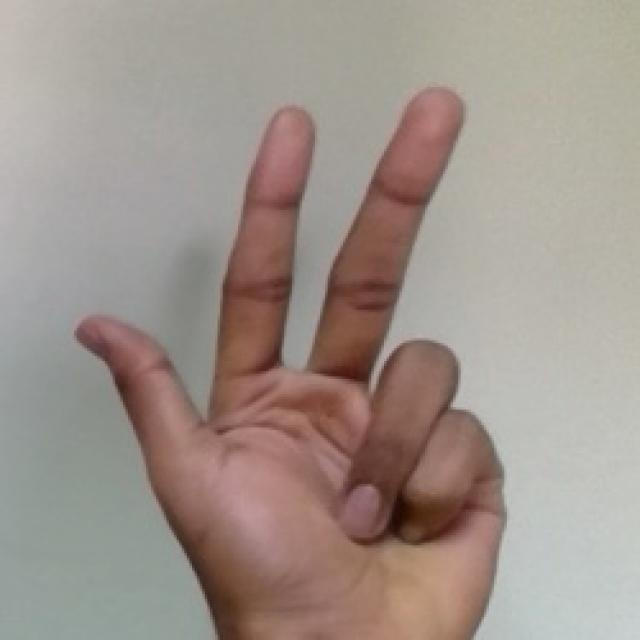Numeric-3: (70, 74, 503, 619)
